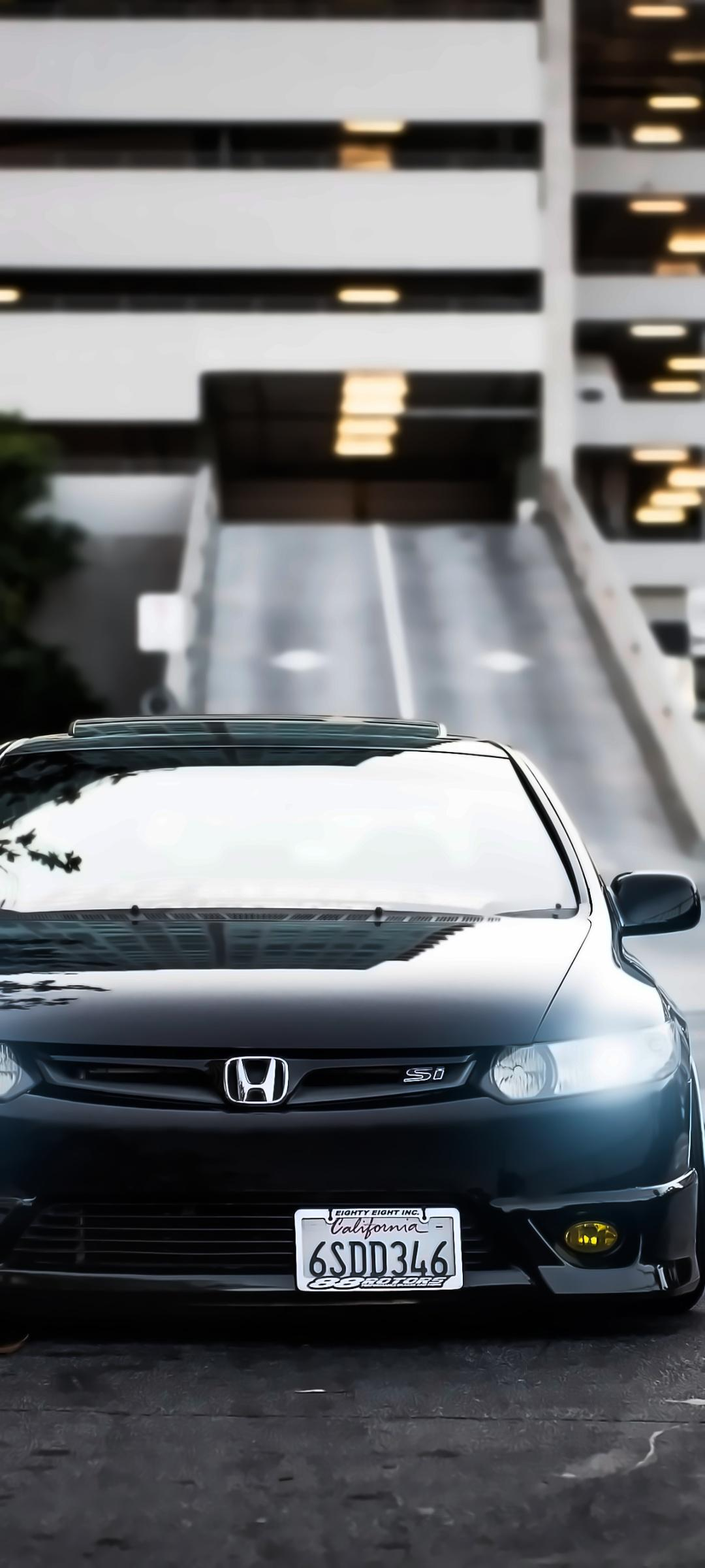Car hood: (0, 902, 596, 1060)
Front bumper: (0, 1072, 705, 1335)
Headlight - -L-: (482, 1019, 686, 1097)
Side mirror - -L-: (603, 865, 705, 961)
